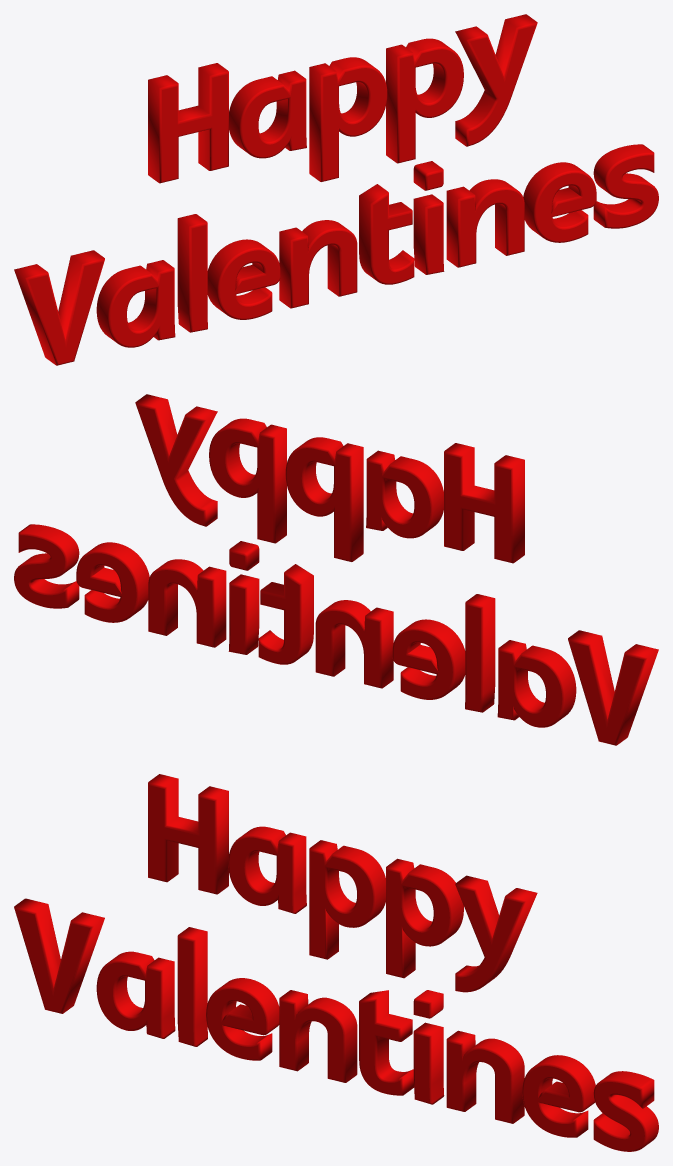
Rendered from happy_valentines.glb.
3 views of the same model, one above another, from view 1: azimuth 30°, elevation 25°; view 2: azimuth 150°, elevation 25°; view 3: azimuth 330°, elevation 25° (orthographic).
Parts seen in each view (by area): view 1: Object_3, Object_2; view 2: Object_3, Object_2; view 3: Object_3, Object_2.
Boxes of the visible parts, x1,y1,x2,y2 form: Object_3: (14, 14, 658, 365); Object_2: (29, 26, 657, 363); Object_3: (14, 394, 658, 745); Object_2: (15, 406, 643, 743); Object_3: (14, 774, 658, 1151); Object_2: (16, 785, 644, 1150).
Size of the model in its own units: 16.88 by 6.45 by 0.6.
